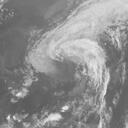cyclone: (27, 21, 111, 87)
